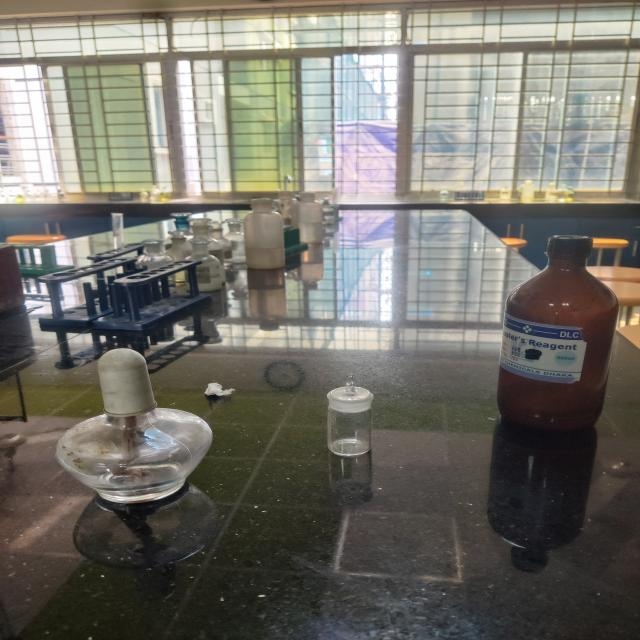Nessler_Reagent_Bottle: (483, 218, 635, 464)
Spirit_Lamp: (41, 332, 229, 528)
Weighing_Bottle: (308, 356, 401, 476)
